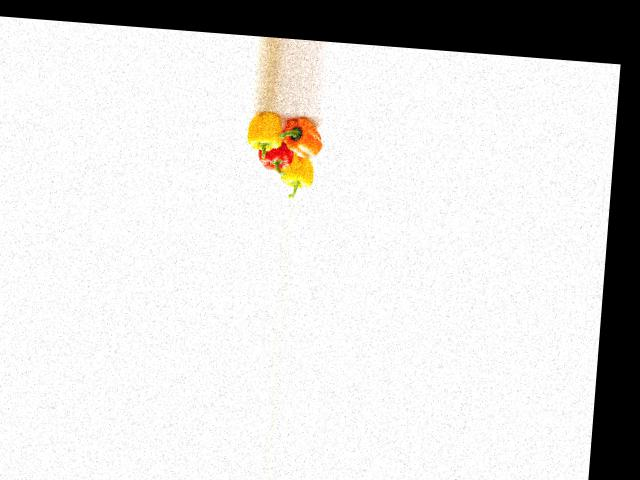bell_pepper: (244, 110, 294, 159)
